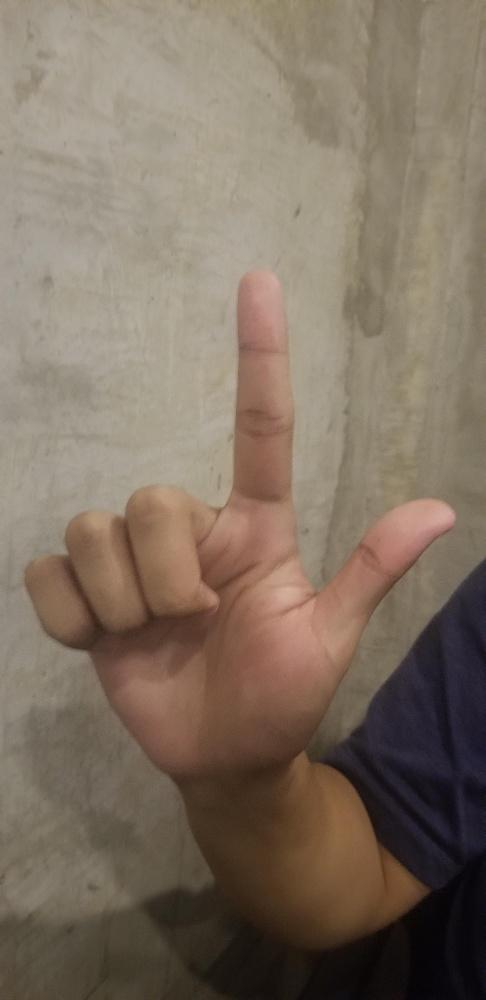l: (22, 264, 454, 766)
